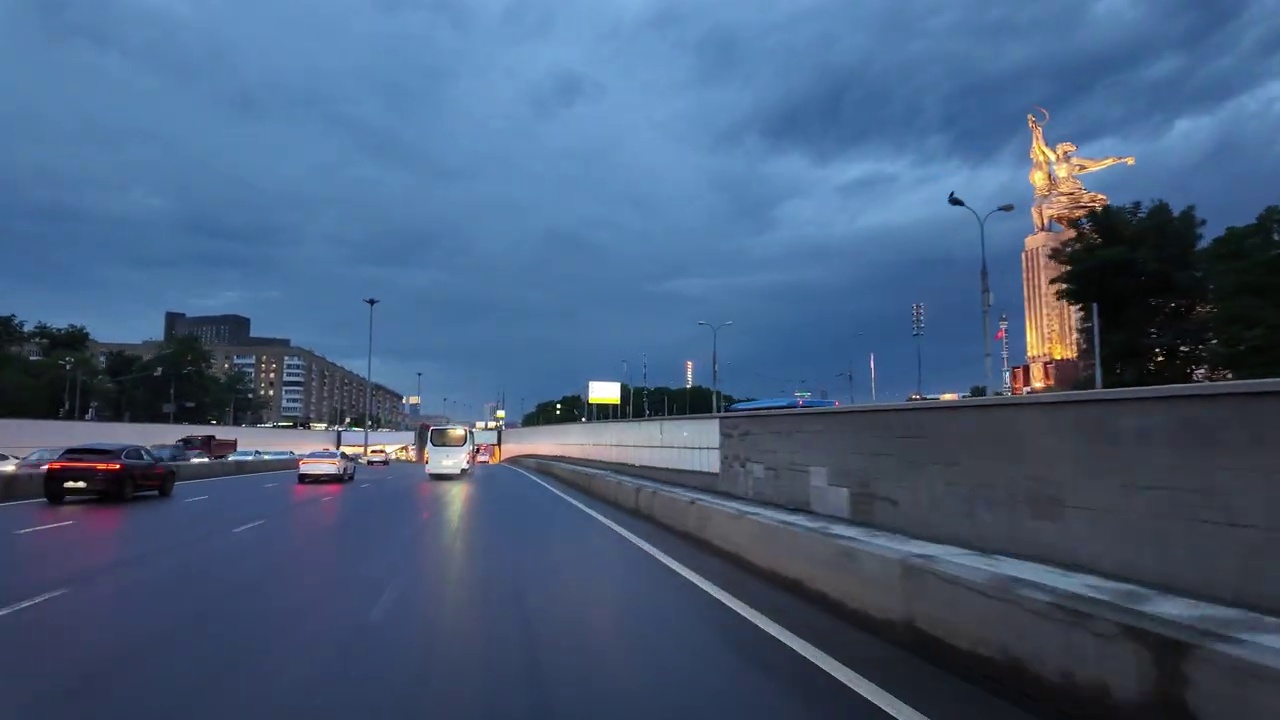apagada: (943, 190, 967, 214), (361, 294, 382, 315)
